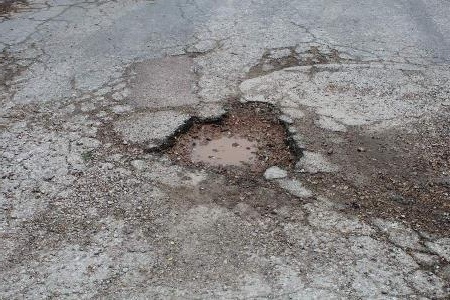pothole: (144, 94, 307, 185)
